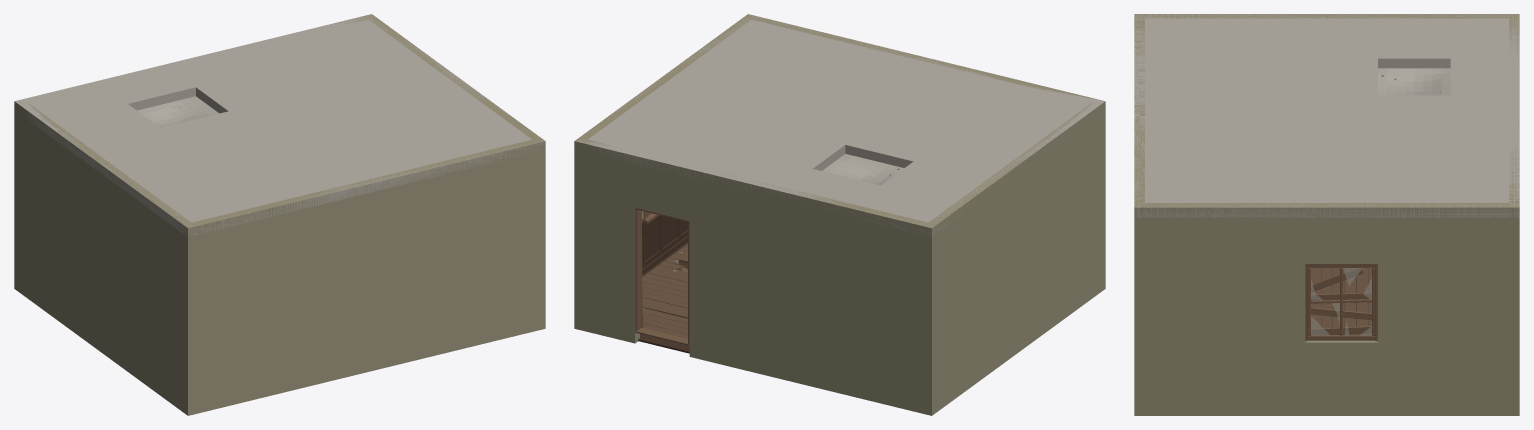
Rendered from room_shell.glb.
The picture shows the model from 3 angles, left to right: view 1: azimuth 30°, elevation 25°; view 2: azimuth 150°, elevation 25°; view 3: azimuth 270°, elevation 25°; orthographic projection. The views are drawn at different scales.
Visible parts, largest first — view 1: room_shell_static; view 2: room_shell_static; view 3: room_shell_static.
Part boxes in pixels (x1,y1,x2,y2): room_shell_static: (14, 14, 545, 415); room_shell_static: (574, 14, 1105, 415); room_shell_static: (1134, 14, 1519, 415).
Bounding box in the file's own units: 6.3 × 3.16 × 5.3.
